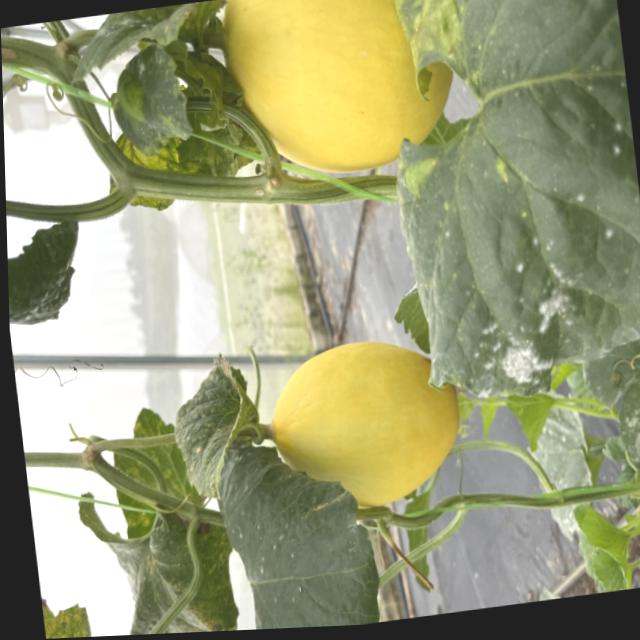CMV: (2, 72, 90, 346), (61, 0, 241, 87)
SLCV: (378, 0, 640, 417), (73, 469, 246, 637), (162, 351, 270, 506)
downy mildew: (98, 34, 195, 163), (39, 579, 136, 639)
healthy: (570, 507, 640, 595)
powdery mildew: (209, 433, 383, 631), (597, 384, 640, 492)
